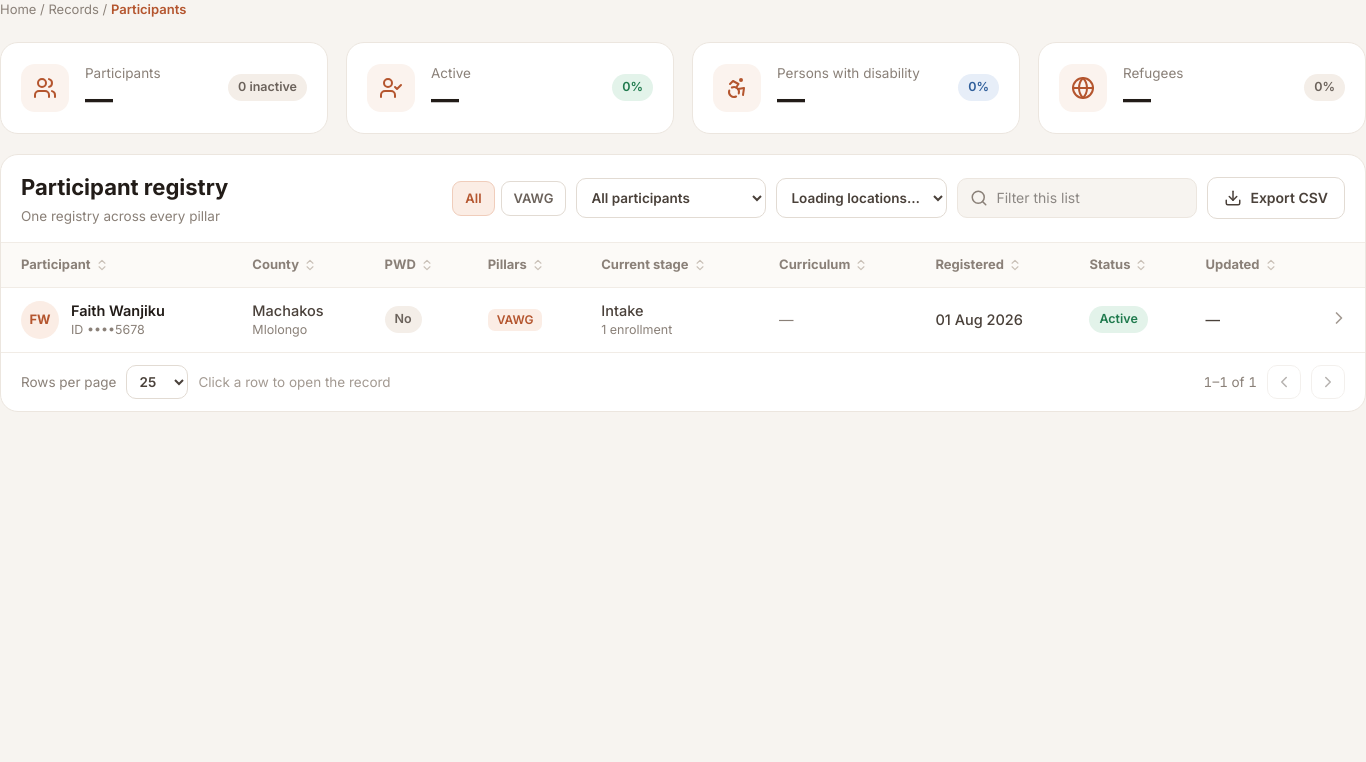
opens a participant in the record drawer when the row is clicked
This screenshot has width=1366, height=762.
Click the text "Faith Wanjiku" at (118,310), box top-left (71, 302), bottom-right (165, 318)
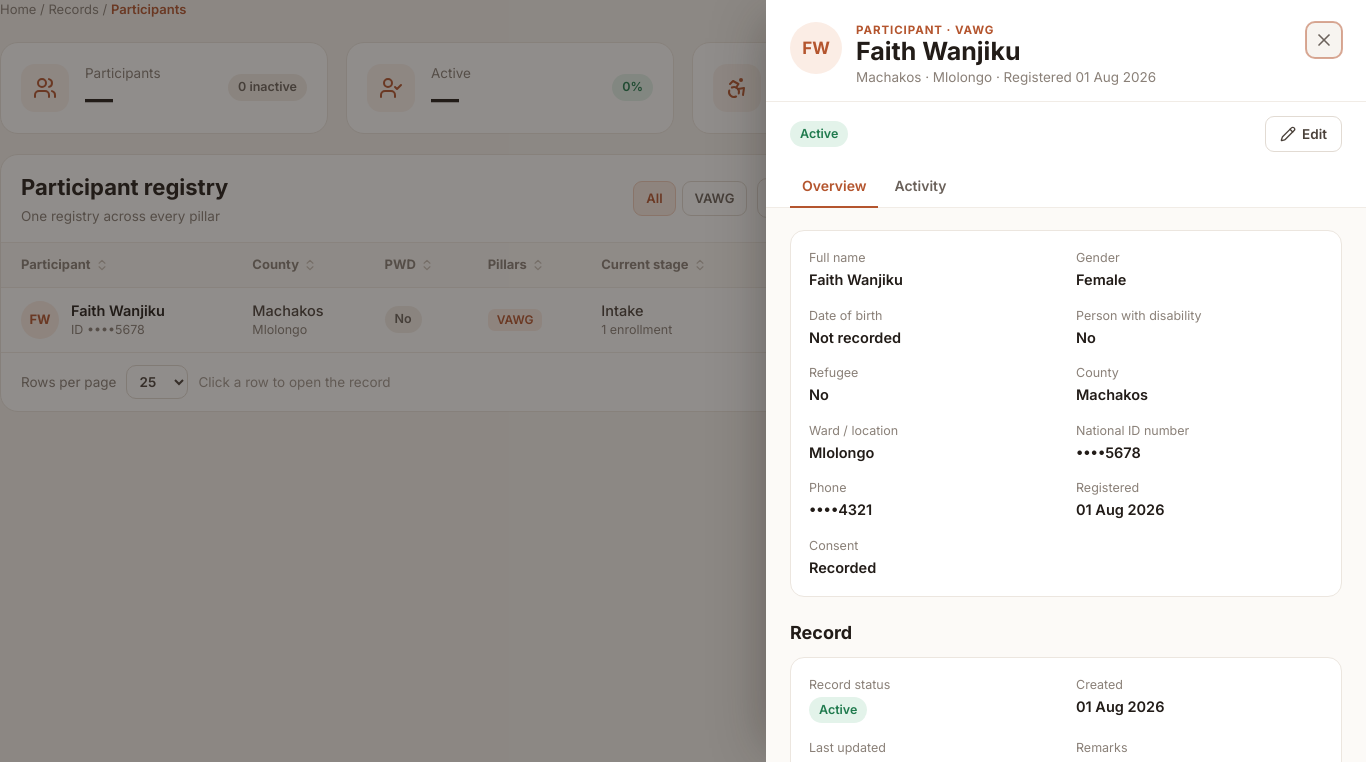
Expected: the dialog "Faith Wanjiku" shows "Participant · VAWG", top-left (856, 23), bottom-right (994, 37)
Expected: the button with aria-label "Edit participant" is shown, top-left (1265, 116), bottom-right (1342, 152)
